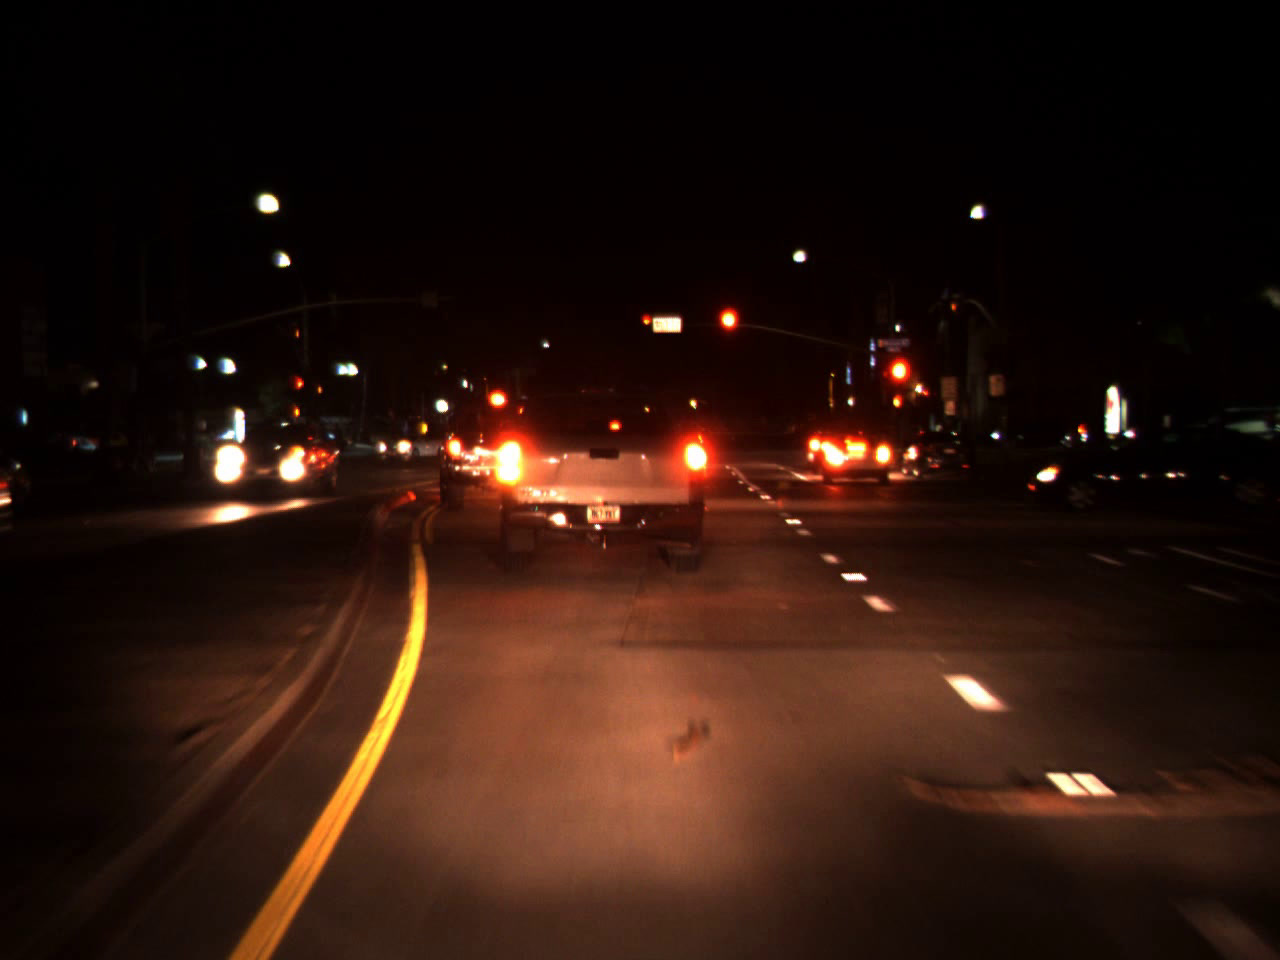stop: (885, 353, 915, 417), (715, 305, 742, 359), (295, 375, 305, 402), (642, 314, 652, 335)
